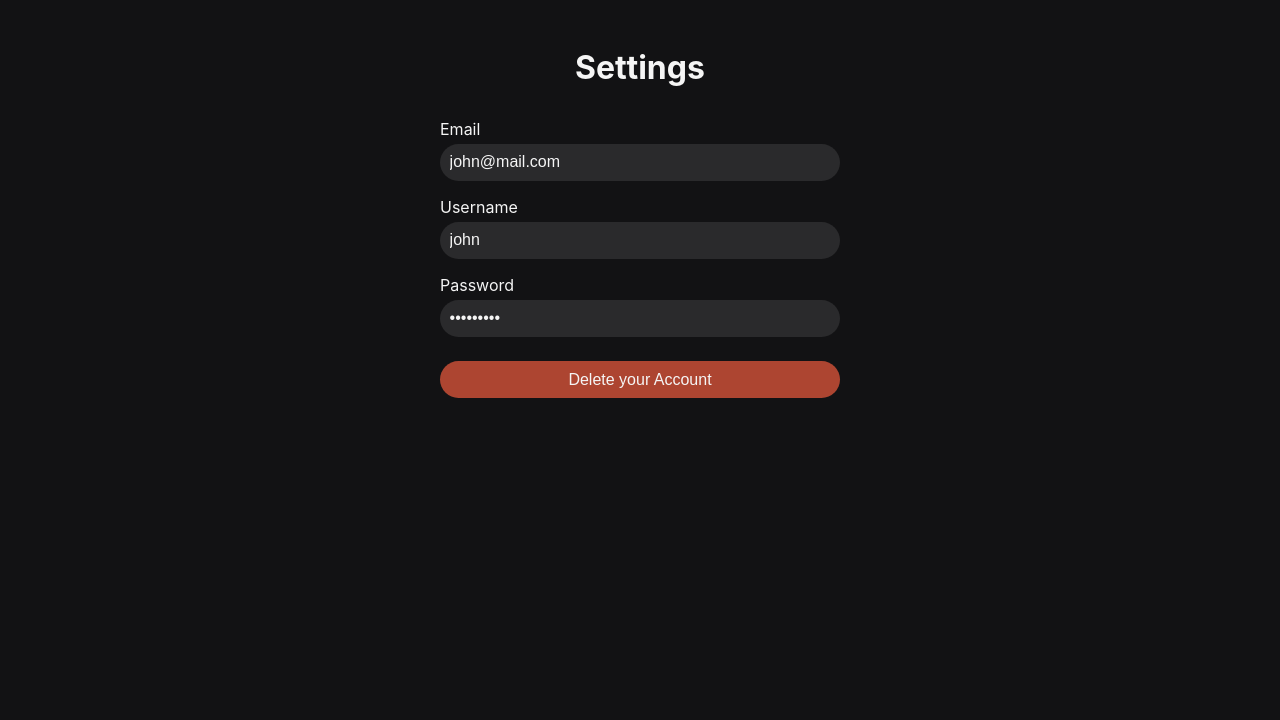
it: settings › should open and close confirmation modal on button clicks
The image size is (1280, 720).
Click the button "Delete your Account" at (640,380), box left=440, top=361, right=840, bottom=398
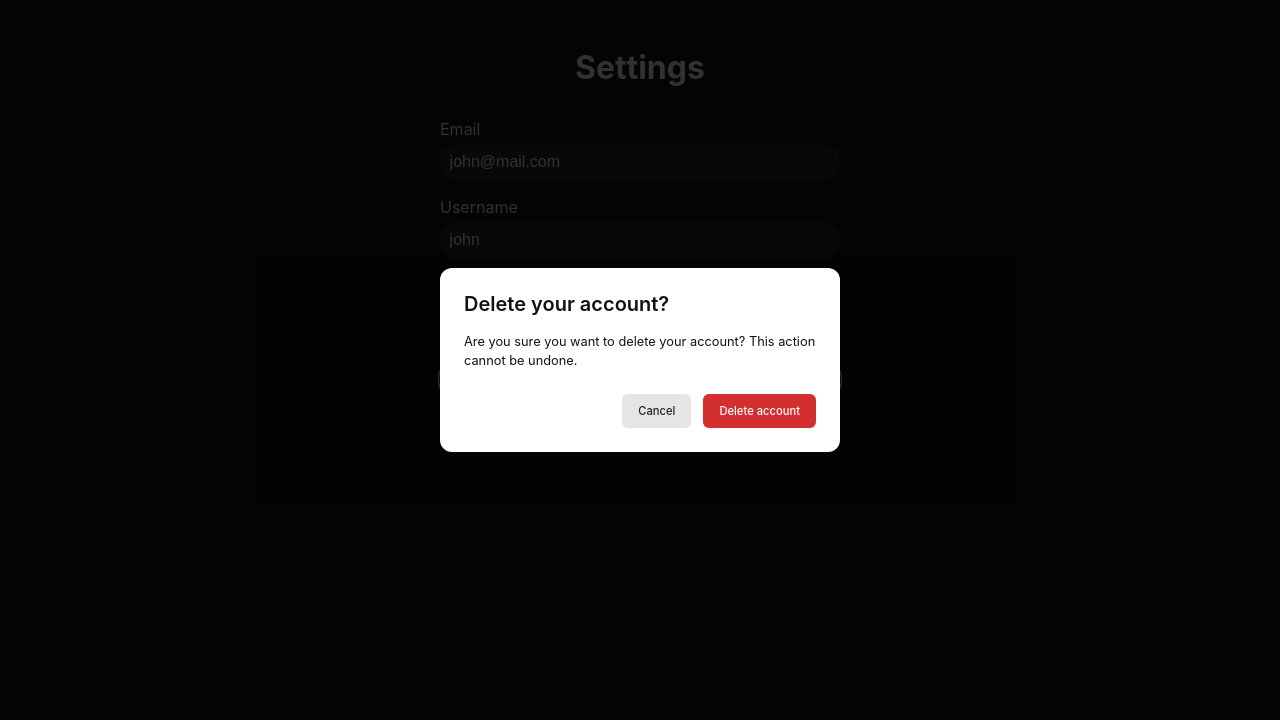
Expected: the text "Delete your account?" is shown, left=464, top=292, right=669, bottom=316
Expected: the button "Cancel" is shown
Expected: the button "Delete account" is shown, left=703, top=394, right=816, bottom=428
Click the button "Cancel" at (657,411), box left=622, top=394, right=691, bottom=428
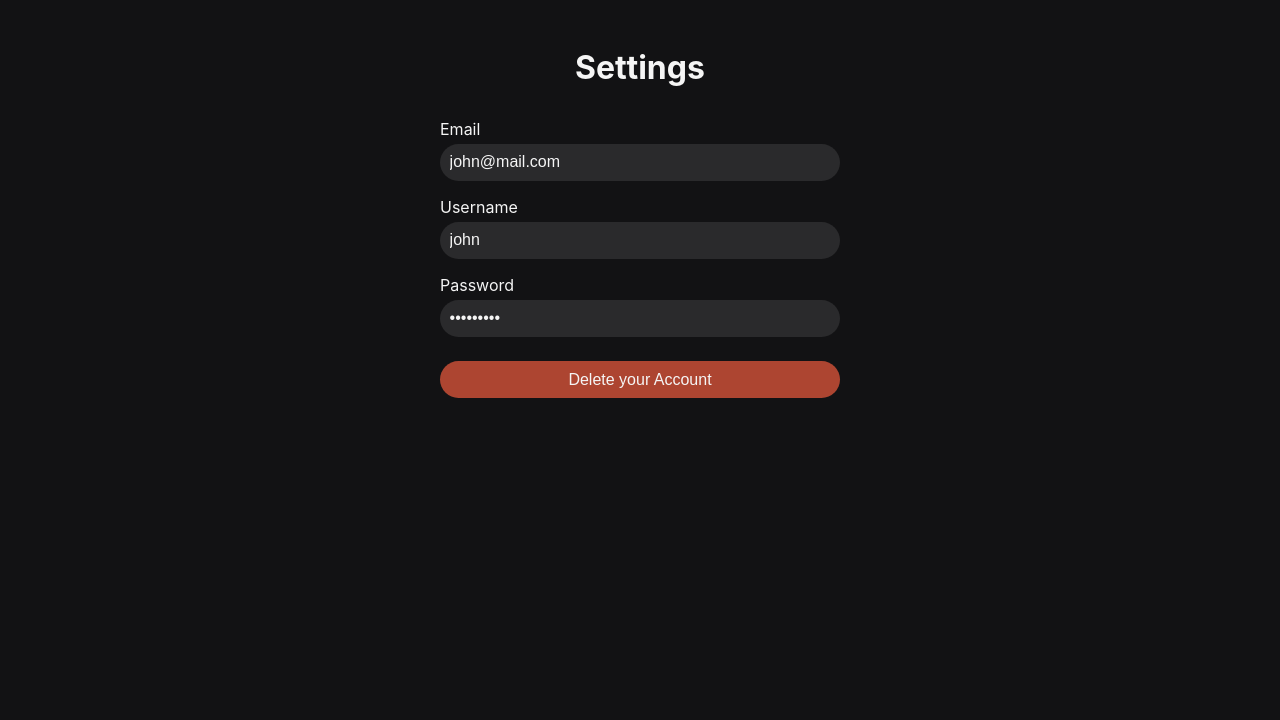
Expected: the button "Cancel" is gone
